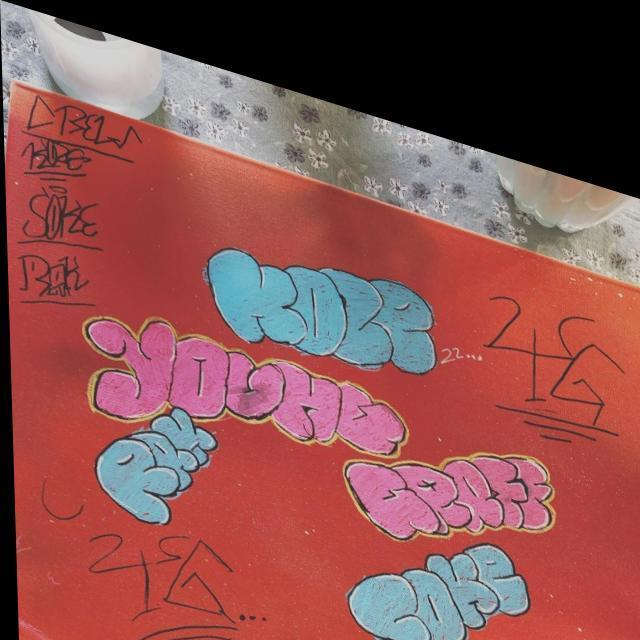-: (64, 283, 407, 453), (192, 180, 434, 380), (340, 352, 564, 568), (453, 219, 640, 440), (3, 84, 163, 338), (323, 471, 540, 640), (59, 485, 252, 640), (80, 370, 238, 538), (453, 592, 640, 640)
